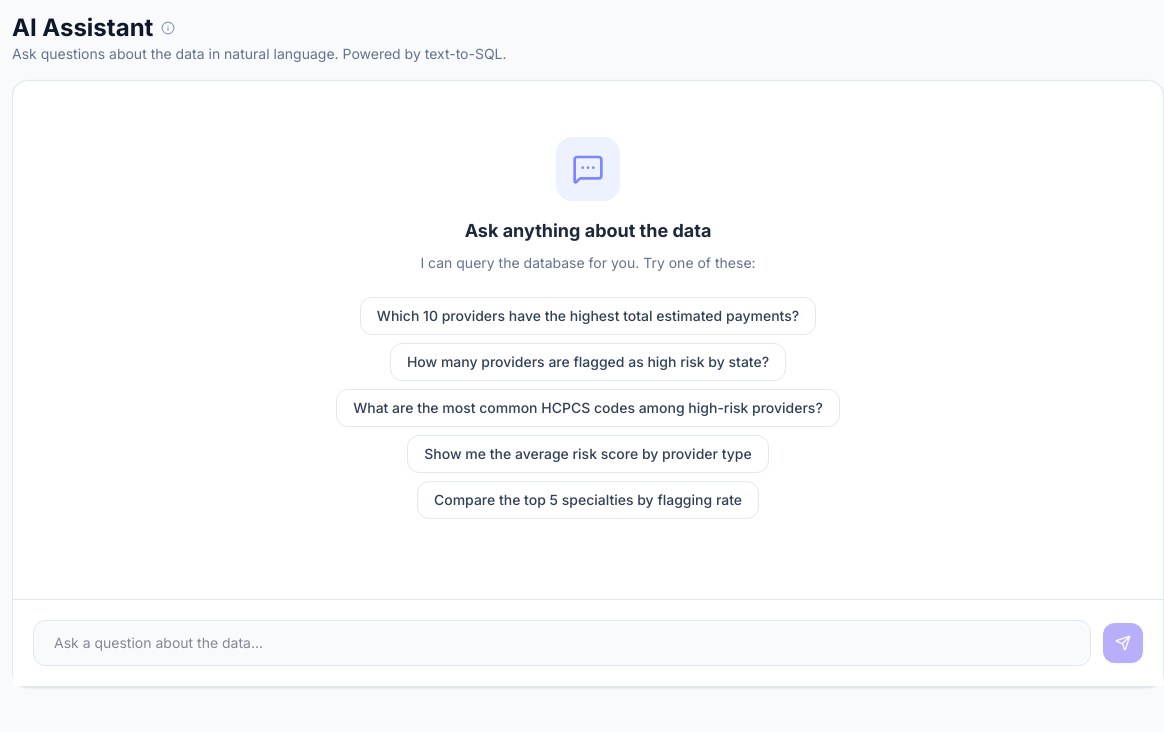
Test: Analytics › submits typed input with Enter
Type "Show total providers" into the field labelled "Ask a question about the data".
click(562, 643); type("Show total providers")  # box [33,620,1091,666]
Then press Enter
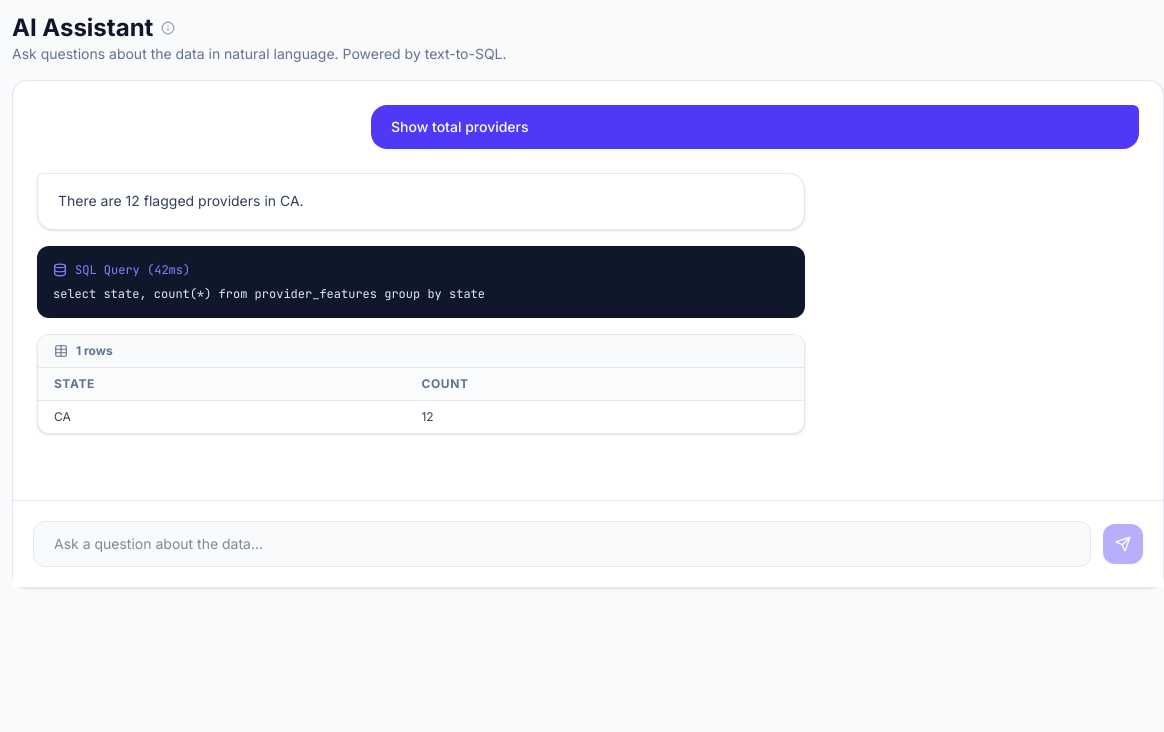
Result: the text "Show total providers" is shown at [371,105,1139,149]
